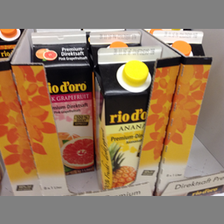juice: (92, 47, 164, 190), (30, 31, 93, 175)
